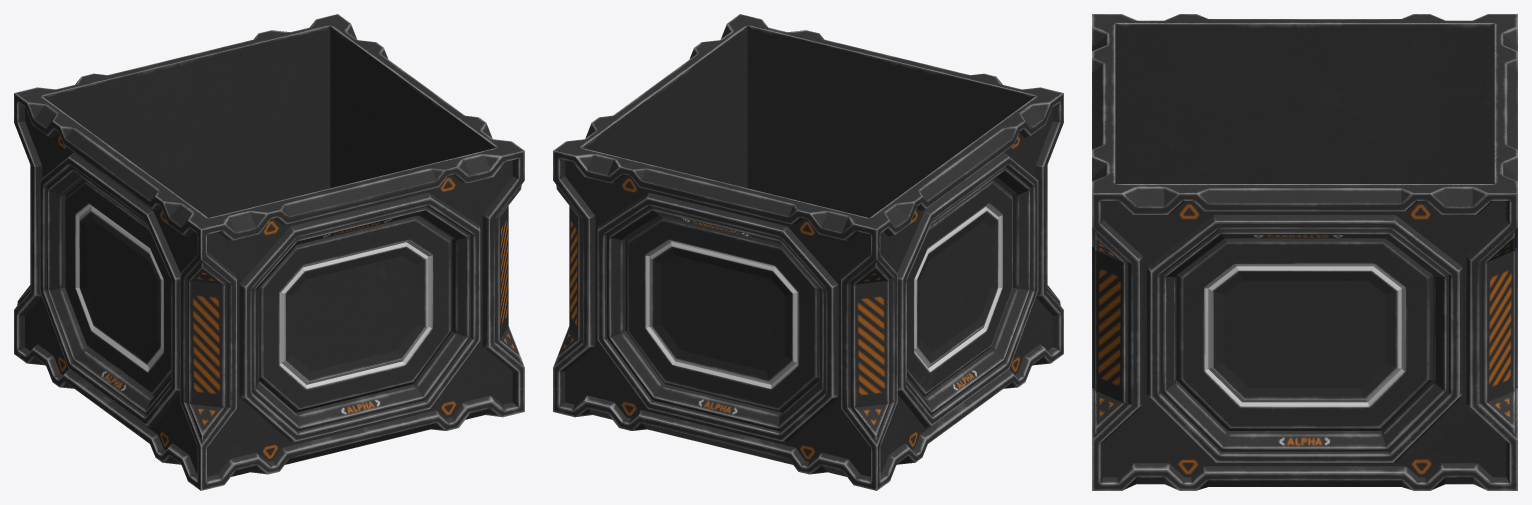
Rendered from World_Crate.fbx.
The picture shows the model from 3 angles, left to right: view 1: azimuth 30°, elevation 25°; view 2: azimuth 150°, elevation 25°; view 3: azimuth 270°, elevation 25°; orthographic projection. The views are drawn at different scales.
Parts seen in each view (by area): view 1: World_Crate; view 2: World_Crate; view 3: World_Crate.
Part boxes in pixels (x1,y1,x2,y2): World_Crate: (14, 14, 524, 490); World_Crate: (553, 14, 1063, 490); World_Crate: (1092, 14, 1517, 490).
Size of the model in its own units: 1.45 by 1.12 by 1.45.
